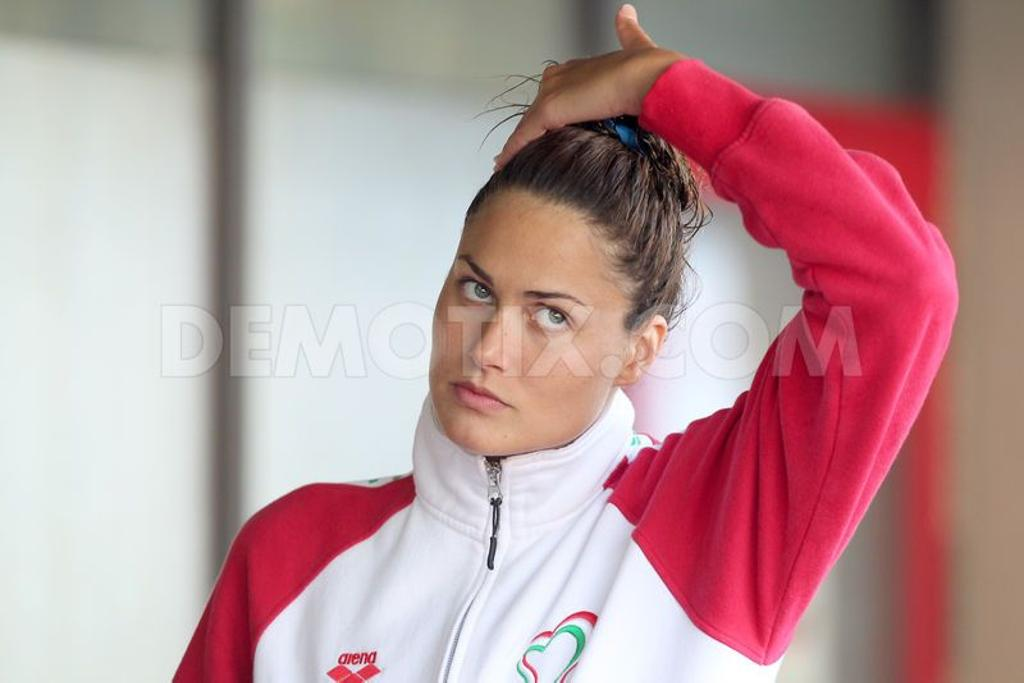face: (436, 226, 616, 450)
